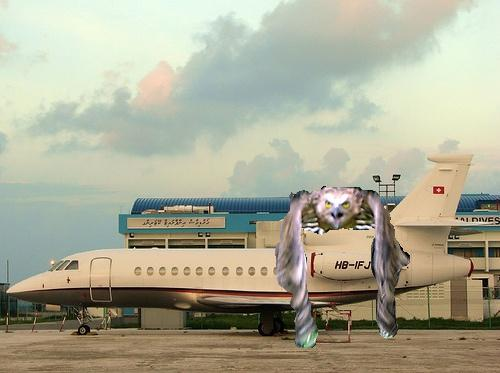tampered: (276, 187, 410, 348)
